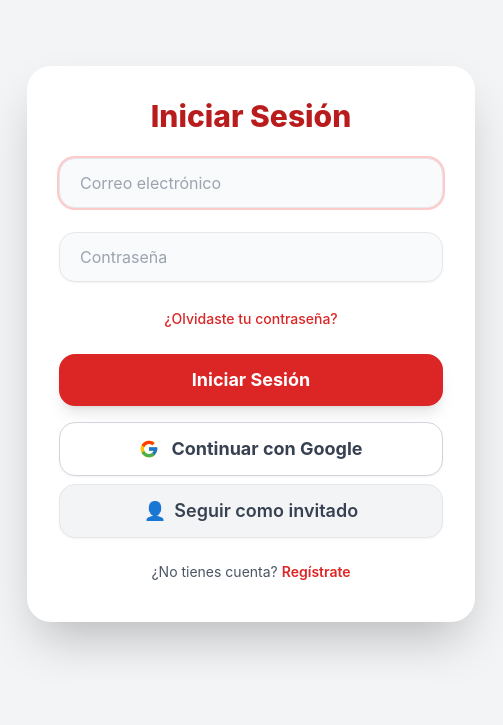
Test case: Auth Component › handles successful registration
// Cambiar a modo registro
Click the text "Regístrate" at (316, 572), box 282,563 -> 350,580
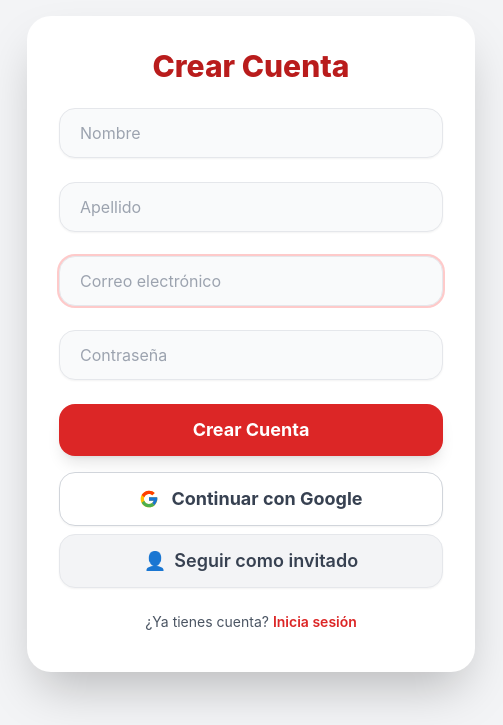
Type "John" into the field with placeholder "Nombre" at (251, 133), box 59,108 -> 443,158
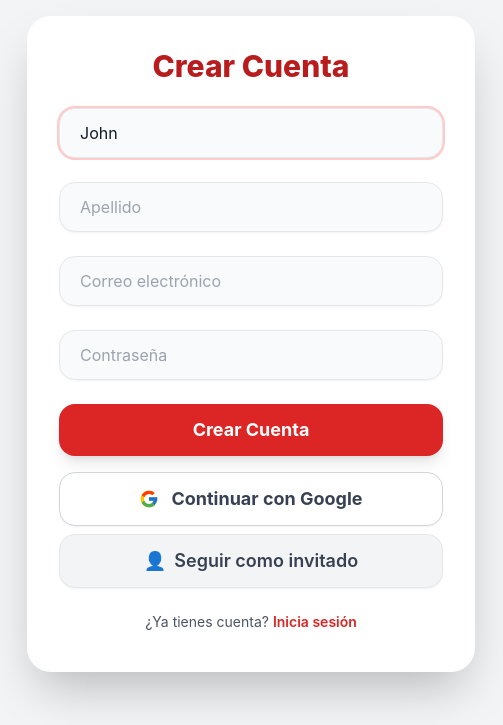
Type "Doe" into the field with placeholder "Apellido" at (251, 207), box 59,182 -> 443,232
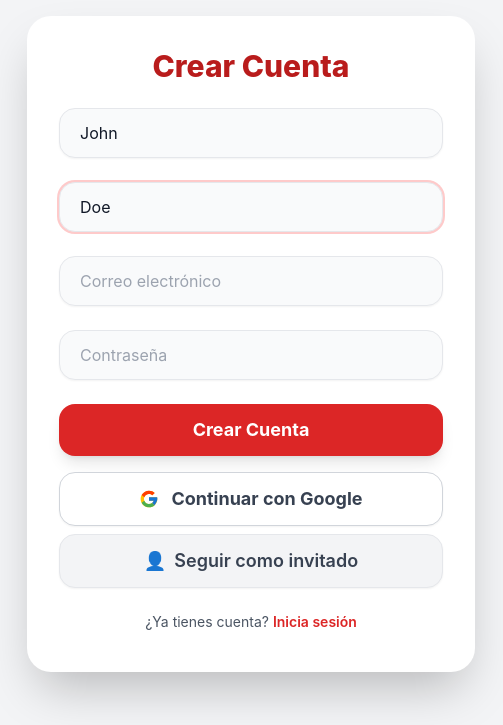
Type "test@example.com" into the field with placeholder "Correo electrónico" at (251, 281), box 59,256 -> 443,306
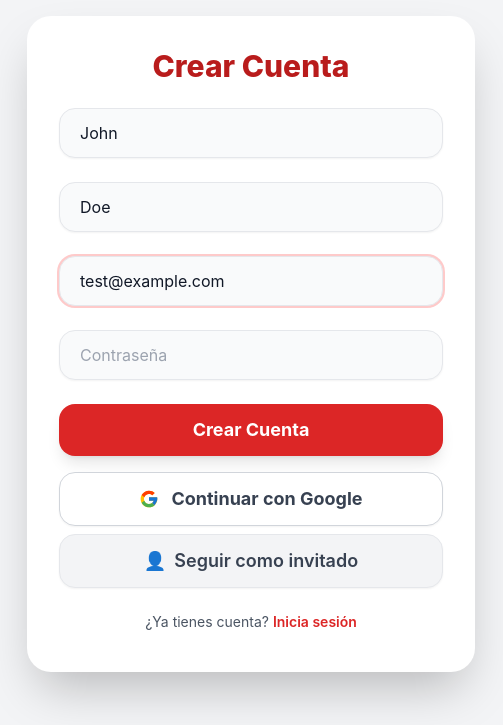
Type "password123" into the password field with placeholder "Contraseña" at (251, 355), box 59,330 -> 443,380
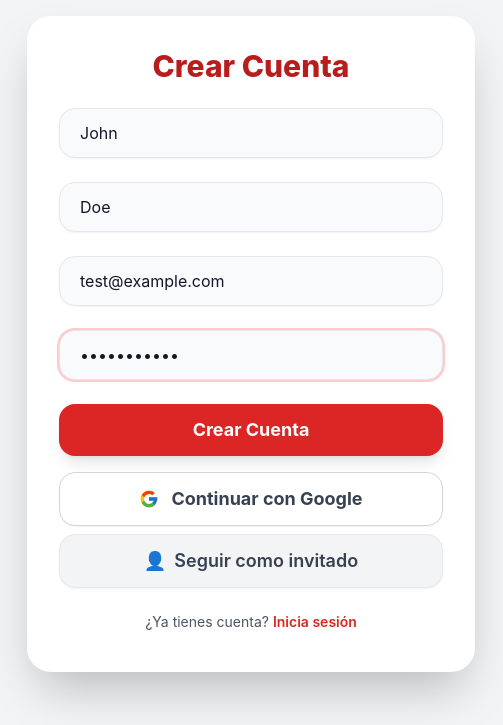
Click the button "Crear Cuenta" at (251, 430), box 59,404 -> 443,456
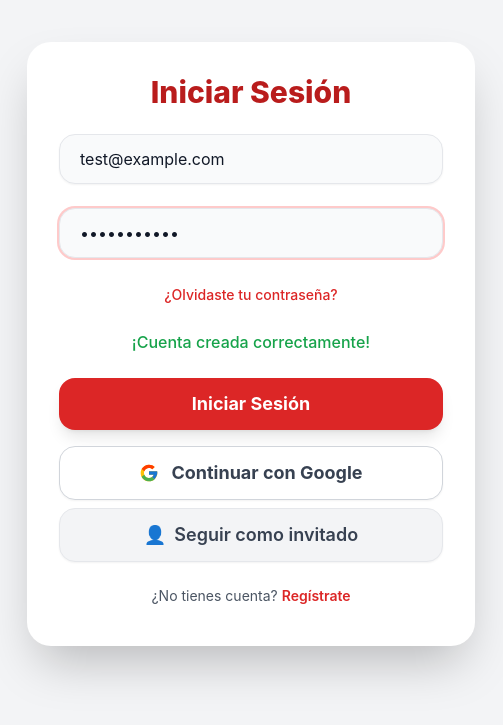
Expected: the text "¡Cuenta creada correctamente!" is shown, 132,332 -> 370,352
